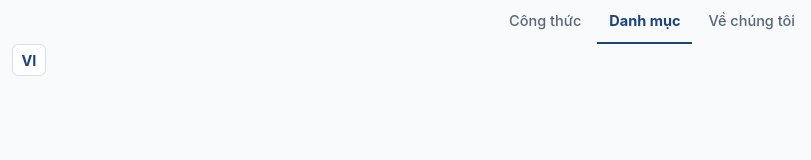
Test case: HeaderNav › chuyển sang EN thì cả ba nhãn đổi theo
Click the button with aria-label "Chuyển sang tiếng Anh" at (29, 60), box [12,44,46,76]
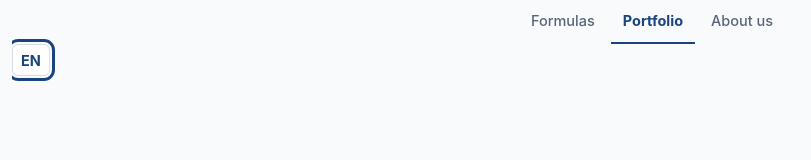
Expected: the link "Formulas" is shown, [531,12,595,29]
Expected: the link "Portfolio" is shown, [611,0,695,44]
Expected: the link "About us" is shown, [711,12,773,29]
